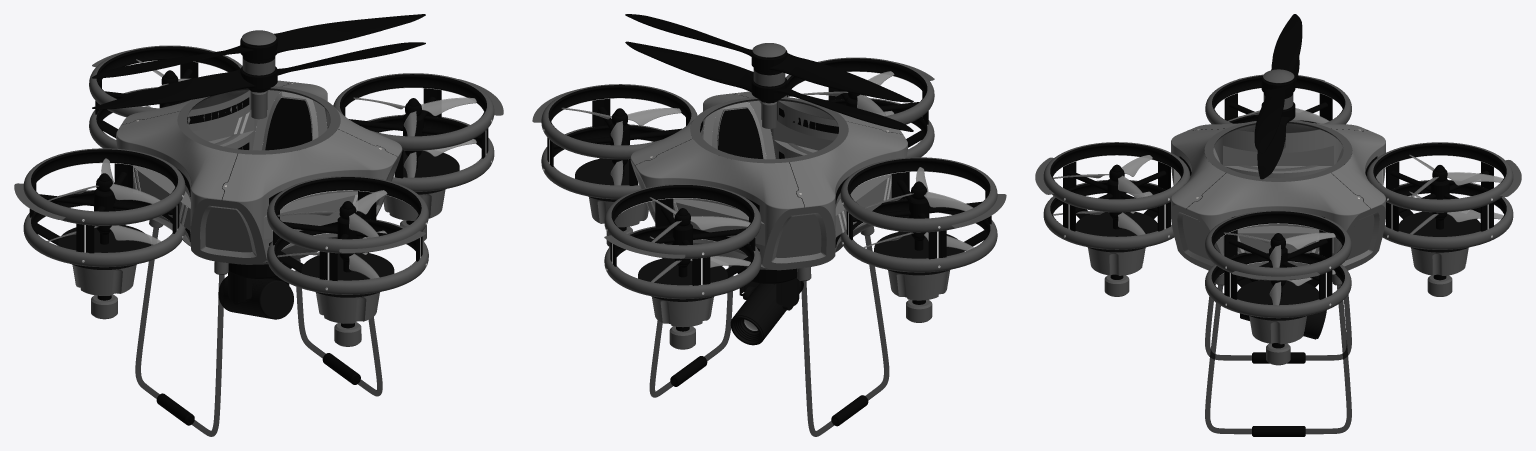
Rendered from aircraft.glb.
The picture shows the model from 3 angles, left to right: view 1: azimuth 30°, elevation 25°; view 2: azimuth 150°, elevation 25°; view 3: azimuth 270°, elevation 25°; orthographic projection. The views are drawn at different scales.
Visible parts, largest first — view 1: 主体(6F187DA5-FD37-4767-883D-67F17D1C6FBB), 主体(C41E68FB-C666-445D-989A-EDE57E9ADF0E), 主体(98DFE5BF-FAE7-43A9-BD70-1DA59AF71CBC), 外圈(F589A7C1-2595-45B5-8A64-04BC716B727D), 外圈(552A09CE-493B-4755-9BD8-D1F218203E17), 外圈(CEF5B687-31C4-41EF-B746-9B313195A5EB), 外圈(7B08FD39-6E9F-43A2-9C4F-003FB5B3C25C), 主体(25A3B6EE-3DD7-4330-9B93-65C21C60D7D0), 螺旋桨内层(0258D9AC-70CA-4C49-B245-9D3F76C9017D), 螺旋桨内层(ED8AE44A-466A-4697-A430-0B3C2D7FD4BF), 金属起落架(F46EB213-DA9B-4AA2-904B-3B5AA51949AD), 外圈(029B2799-43A6-497B-BEE5-C6F89D55B9C5) (+41 smaller); view 2: 主体(98DFE5BF-FAE7-43A9-BD70-1DA59AF71CBC), 主体(25A3B6EE-3DD7-4330-9B93-65C21C60D7D0), 主体(6F187DA5-FD37-4767-883D-67F17D1C6FBB), 外圈(F589A7C1-2595-45B5-8A64-04BC716B727D), 主体(C41E68FB-C666-445D-989A-EDE57E9ADF0E), 外圈(6B58F2D2-442C-4630-BEE2-169B756C093B), 外圈(7954E4F1-1F4F-4731-BFFE-034A71FF5C83), 外圈(7B08FD39-6E9F-43A2-9C4F-003FB5B3C25C), 金属起落架(F46EB213-DA9B-4AA2-904B-3B5AA51949AD), 螺旋桨内层(6CB4F227-65A7-49AF-B947-0D1A301EB77F), 螺旋桨内层(0A05CC17-F4D2-4EB4-A451-79C9E3F8C558), 外圈(029B2799-43A6-497B-BEE5-C6F89D55B9C5) (+40 smaller); view 3: 主体(C41E68FB-C666-445D-989A-EDE57E9ADF0E), 主体(25A3B6EE-3DD7-4330-9B93-65C21C60D7D0), 主体(98DFE5BF-FAE7-43A9-BD70-1DA59AF71CBC), 主体(6F187DA5-FD37-4767-883D-67F17D1C6FBB), 外圈(6B58F2D2-442C-4630-BEE2-169B756C093B), 外圈(552A09CE-493B-4755-9BD8-D1F218203E17), 外圈(A8277A1C-21B6-481A-92BF-AC0A1F679DE5), 外圈(029B2799-43A6-497B-BEE5-C6F89D55B9C5), 金属起落架(8606E620-AD27-40EC-A65A-B9A0D307FB42), 外圈(CEF5B687-31C4-41EF-B746-9B313195A5EB), 外圈(7954E4F1-1F4F-4731-BFFE-034A71FF5C83), 内圈(1753C87F-A051-4FA5-B482-F6A0DF85D2DA) (+28 smaller).
Part boxes in pixels (bbox=[...]): 主体(6F187DA5-FD37-4767-883D-67F17D1C6FBB): bbox=[160, 137, 316, 262]; 主体(C41E68FB-C666-445D-989A-EDE57E9ADF0E): bbox=[300, 105, 402, 257]; 主体(98DFE5BF-FAE7-43A9-BD70-1DA59AF71CBC): bbox=[116, 96, 215, 244]; 外圈(F589A7C1-2595-45B5-8A64-04BC716B727D): bbox=[23, 148, 185, 225]; 外圈(552A09CE-493B-4755-9BD8-D1F218203E17): bbox=[267, 176, 428, 253]; 外圈(CEF5B687-31C4-41EF-B746-9B313195A5EB): bbox=[267, 219, 428, 294]; 外圈(7B08FD39-6E9F-43A2-9C4F-003FB5B3C25C): bbox=[23, 190, 185, 267]; 主体(25A3B6EE-3DD7-4330-9B93-65C21C60D7D0): bbox=[202, 80, 330, 150]; 螺旋桨内层(0258D9AC-70CA-4C49-B245-9D3F76C9017D): bbox=[92, 73, 232, 109]; 螺旋桨内层(ED8AE44A-466A-4697-A430-0B3C2D7FD4BF): bbox=[286, 14, 425, 49]; 金属起落架(F46EB213-DA9B-4AA2-904B-3B5AA51949AD): bbox=[135, 227, 224, 436]; 外圈(029B2799-43A6-497B-BEE5-C6F89D55B9C5): bbox=[333, 73, 494, 150]; 主体(98DFE5BF-FAE7-43A9-BD70-1DA59AF71CBC): bbox=[713, 147, 864, 267]; 主体(25A3B6EE-3DD7-4330-9B93-65C21C60D7D0): bbox=[630, 120, 729, 257]; 主体(6F187DA5-FD37-4767-883D-67F17D1C6FBB): bbox=[811, 106, 907, 250]; 外圈(F589A7C1-2595-45B5-8A64-04BC716B727D): bbox=[840, 157, 997, 232]; 主体(C41E68FB-C666-445D-989A-EDE57E9ADF0E): bbox=[690, 91, 824, 158]; 外圈(6B58F2D2-442C-4630-BEE2-169B756C093B): bbox=[604, 184, 761, 258]; 外圈(7954E4F1-1F4F-4731-BFFE-034A71FF5C83): bbox=[604, 226, 761, 299]; 外圈(7B08FD39-6E9F-43A2-9C4F-003FB5B3C25C): bbox=[840, 220, 997, 272]; 金属起落架(F46EB213-DA9B-4AA2-904B-3B5AA51949AD): bbox=[801, 235, 889, 436]; 螺旋桨内层(6CB4F227-65A7-49AF-B947-0D1A301EB77F): bbox=[789, 58, 913, 102]; 螺旋桨内层(0A05CC17-F4D2-4EB4-A451-79C9E3F8C558): bbox=[626, 41, 747, 86]; 外圈(029B2799-43A6-497B-BEE5-C6F89D55B9C5): bbox=[541, 84, 697, 159]; 主体(C41E68FB-C666-445D-989A-EDE57E9ADF0E): bbox=[1171, 151, 1278, 266]; 主体(25A3B6EE-3DD7-4330-9B93-65C21C60D7D0): bbox=[1278, 151, 1385, 266]; 主体(98DFE5BF-FAE7-43A9-BD70-1DA59AF71CBC): bbox=[1278, 123, 1385, 185]; 主体(6F187DA5-FD37-4767-883D-67F17D1C6FBB): bbox=[1171, 123, 1278, 185]; 外圈(6B58F2D2-442C-4630-BEE2-169B756C093B): bbox=[1366, 142, 1513, 212]; 外圈(552A09CE-493B-4755-9BD8-D1F218203E17): bbox=[1043, 142, 1190, 212]; 外圈(A8277A1C-21B6-481A-92BF-AC0A1F679DE5): bbox=[1205, 252, 1351, 318]; 外圈(029B2799-43A6-497B-BEE5-C6F89D55B9C5): bbox=[1205, 210, 1351, 280]; 金属起落架(8606E620-AD27-40EC-A65A-B9A0D307FB42): bbox=[1205, 285, 1351, 434]; 外圈(CEF5B687-31C4-41EF-B746-9B313195A5EB): bbox=[1043, 179, 1174, 249]; 外圈(7954E4F1-1F4F-4731-BFFE-034A71FF5C83): bbox=[1382, 180, 1513, 249]; 内圈(1753C87F-A051-4FA5-B482-F6A0DF85D2DA): bbox=[1373, 143, 1506, 184].
Bounding box in the file's own units: 0.0157 × 0.0117 × 0.0157.
321 materials, 7 textured.
